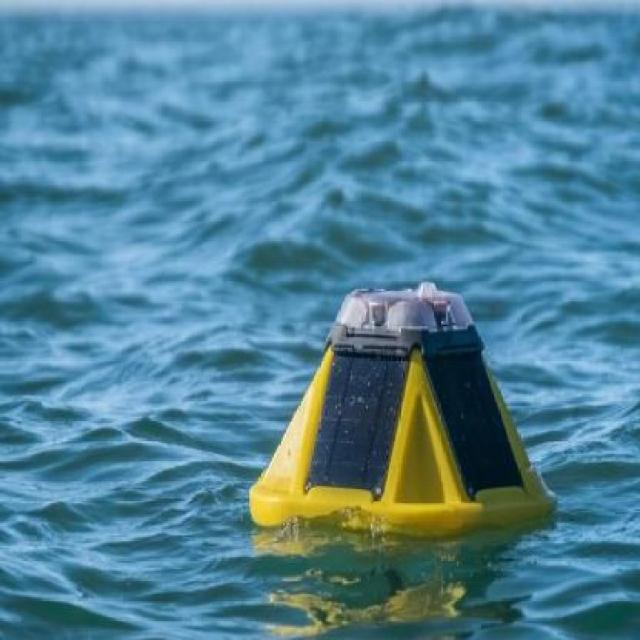a: (231, 258, 566, 561)
